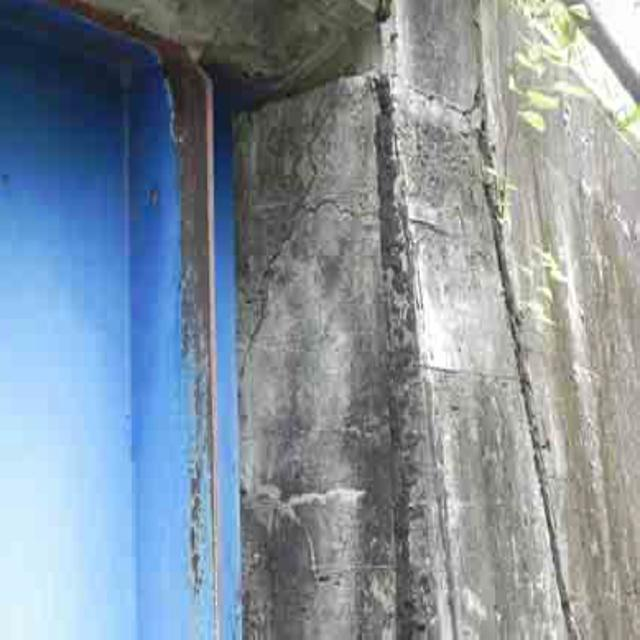corrosion: (147, 27, 244, 437)
crack: (268, 120, 358, 279)
